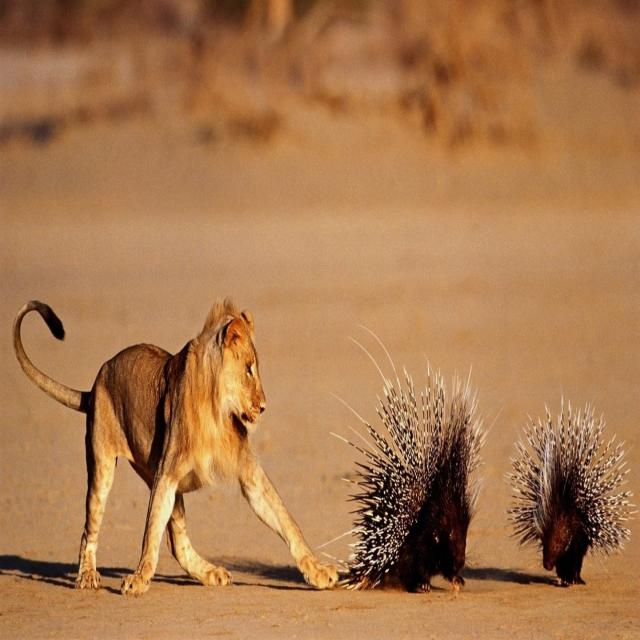Lion: (13, 299, 338, 595)
